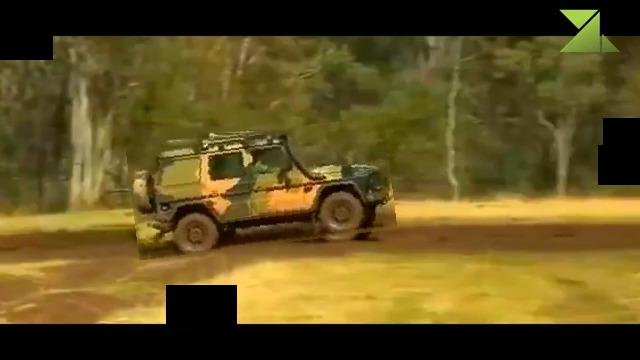MIL_HMMWV: (130, 124, 395, 253)
